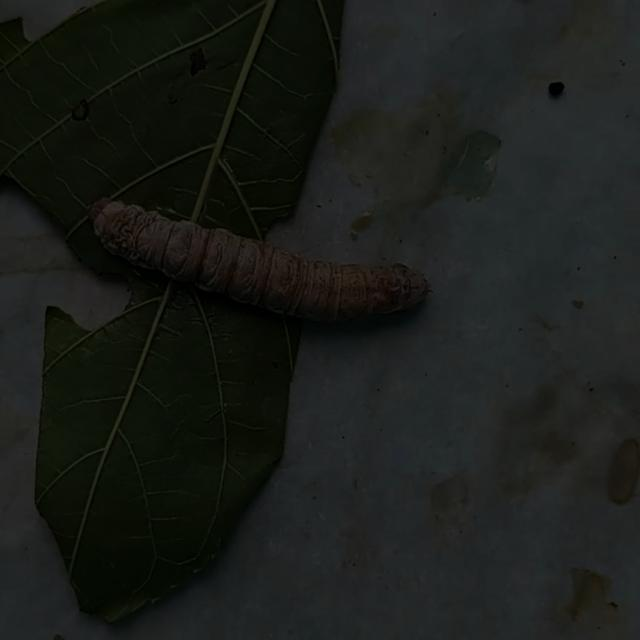Grasserie: (70, 165, 458, 348)
